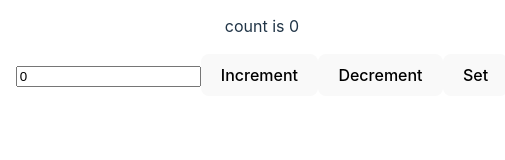
Scenario: #App Counter › should set counter to 1 after increment button is clicked
The image size is (505, 160).
Click the button "Increment" at (260, 75), box [201,54,318,96]
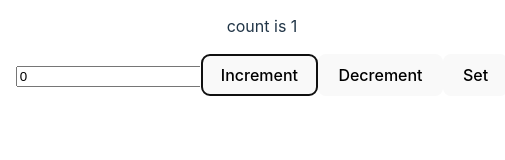
Now the text "count is 1" is shown, box [227,16,297,36]
